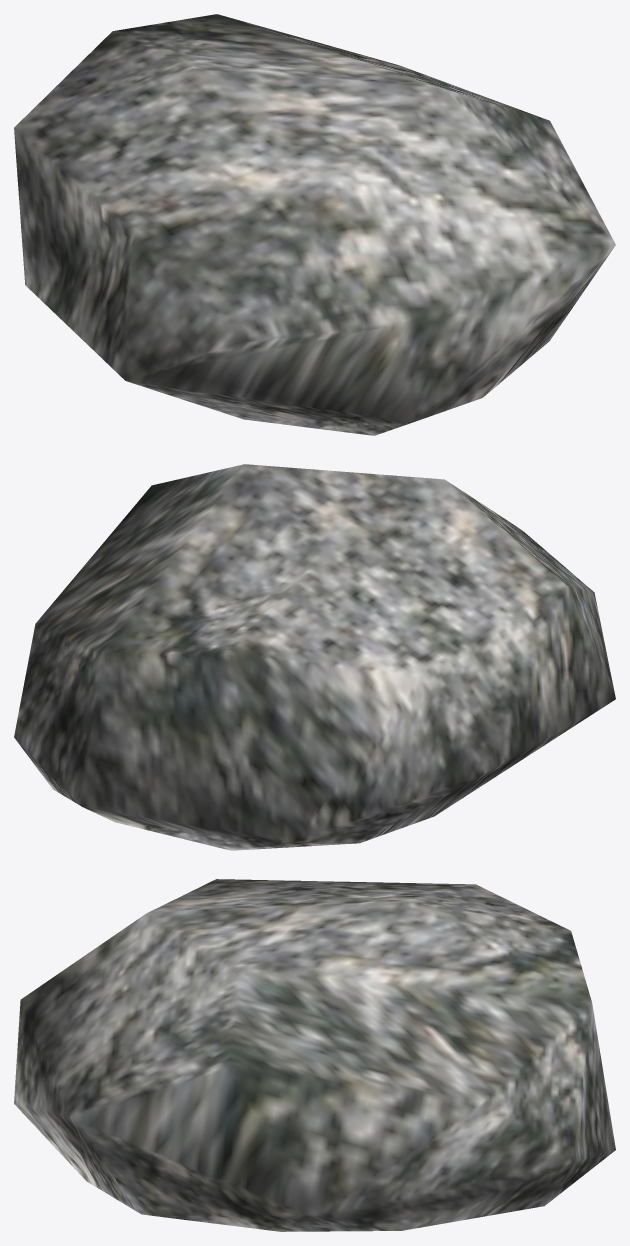
File: stone14_tex2.fbx
The picture shows the model from 3 angles, top to bottom: view 1: azimuth 30°, elevation 25°; view 2: azimuth 150°, elevation 25°; view 3: azimuth 270°, elevation 25°; orthographic projection. The views are drawn at different scales.
Visible parts, largest first — view 1: stone14_tex2Object; view 2: stone14_tex2Object; view 3: stone14_tex2Object.
Boxes of the visible parts, x1,y1,x2,y2 form: stone14_tex2Object: (14,14,615,435); stone14_tex2Object: (14,464,615,850); stone14_tex2Object: (14,879,615,1231).
Size of the model in its own units: 1.05 by 0.5246 by 1.26.
Materials: 1 (1 with a texture image).
